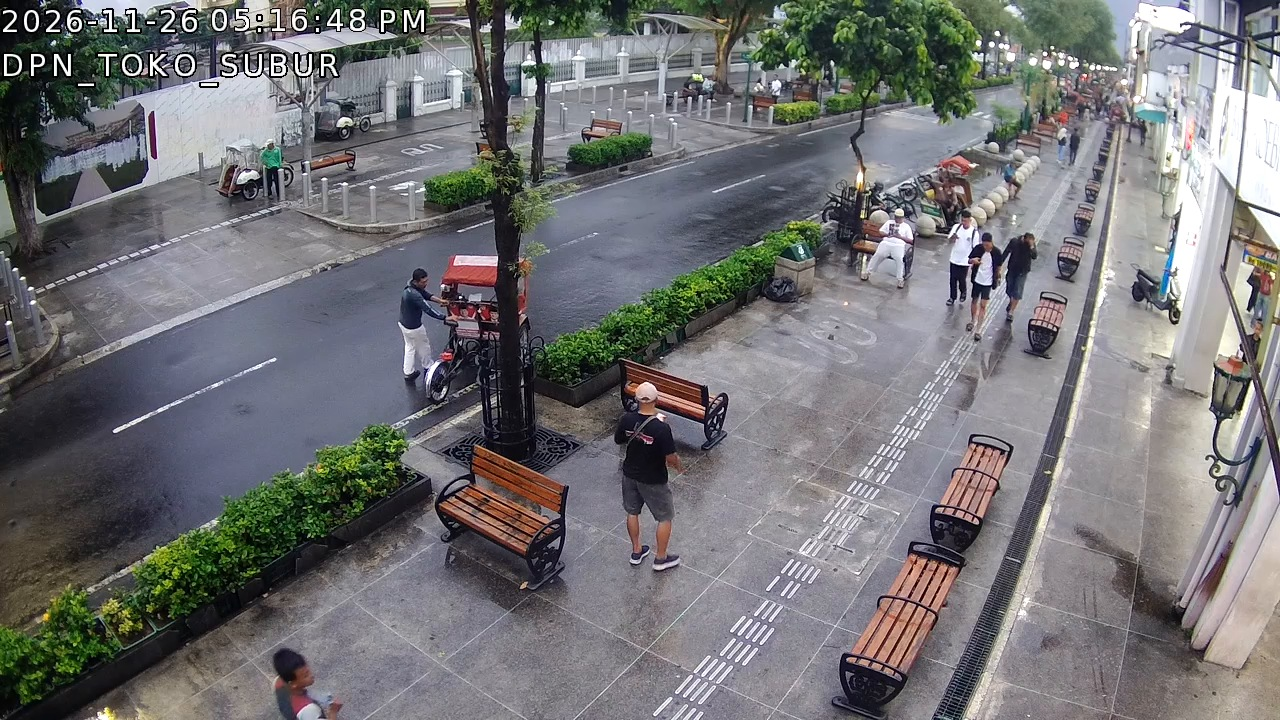Gerobak: (416, 242, 534, 402)
